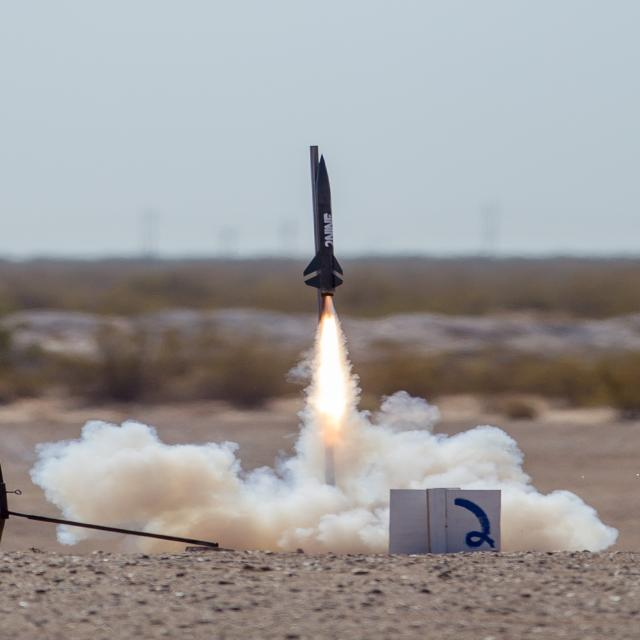Rocket: (303, 153, 344, 298)
